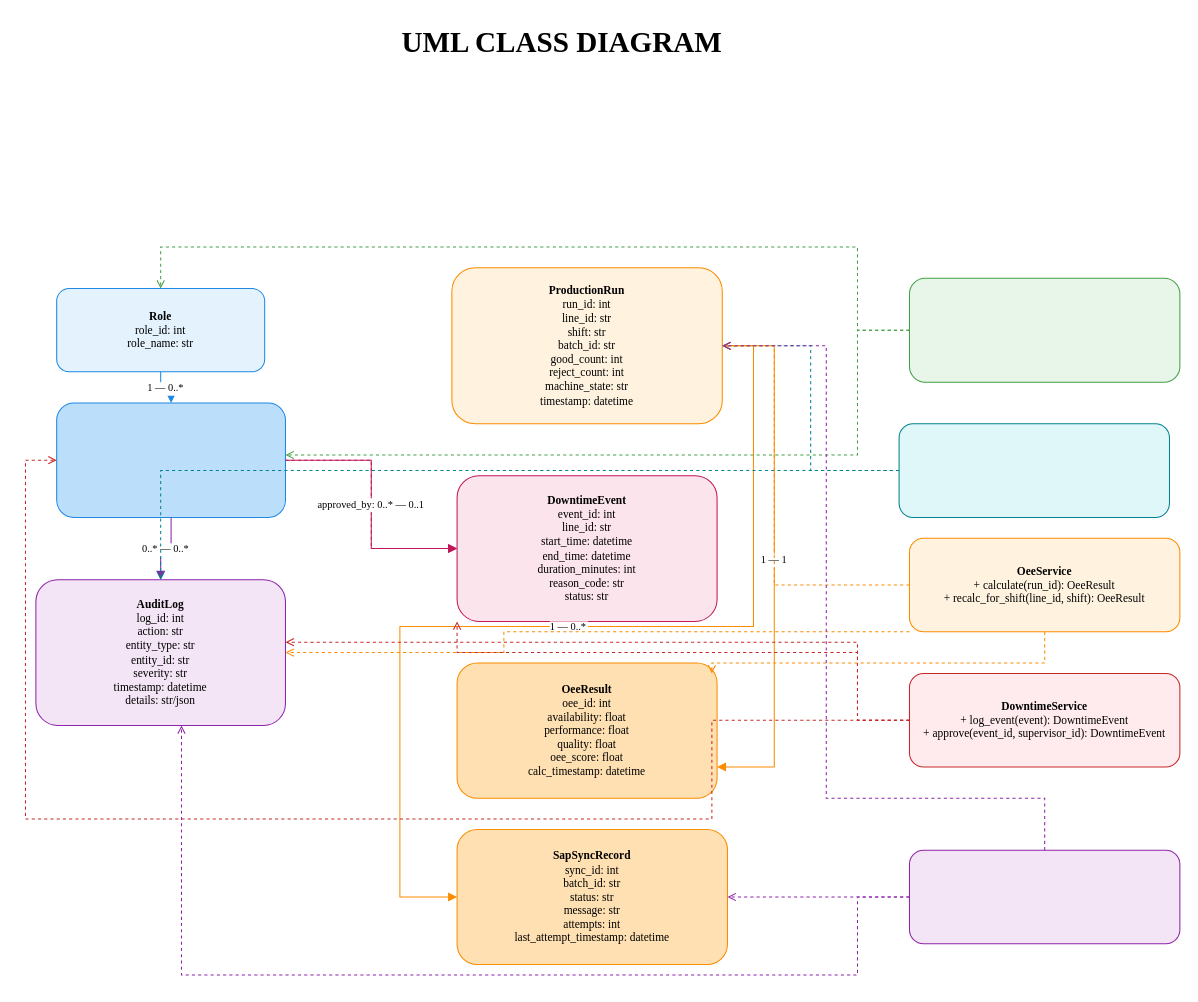
Some shapes in this 1198 by 1002 pixel diagram are drawn without their labels. Each missing label, with the box of its shape:
AuthService + login(username, password): JWT + authorize(user, permission): bool: (908, 277, 1180, 382)
PlcIngestionService + ingest(payload): ProductionRun + validate(payload): bool: (898, 423, 1169, 517)
SapSyncService + sync_batch(run_id): SapSyncRecord + retry_failed(): list: (908, 849, 1180, 944)
User user_id: int username: str password_hash: str active: bool: (56, 402, 285, 517)
